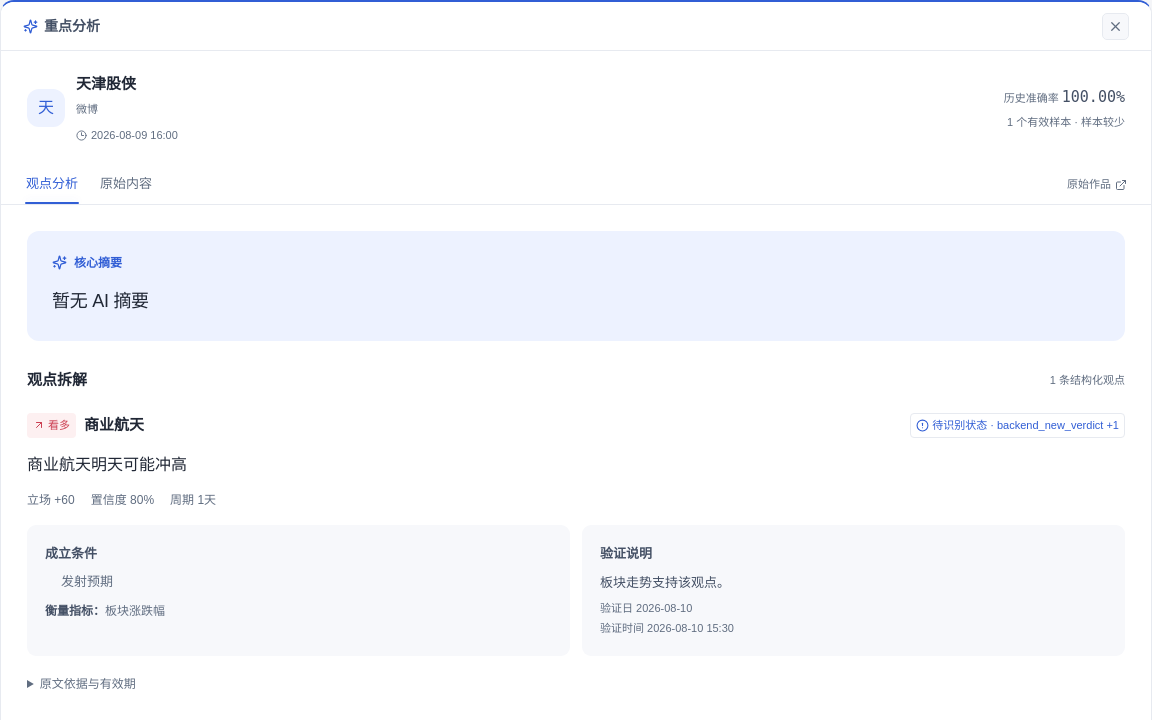
Test: CreatorWorkDetailPanel › keeps missing summaries honest and exposes unknown verification details
Expected: the text "暂无 AI 摘要" is shown, [52,290,149,310]
Click the button "原始内容" at (126,184), box [99,166,153,204]
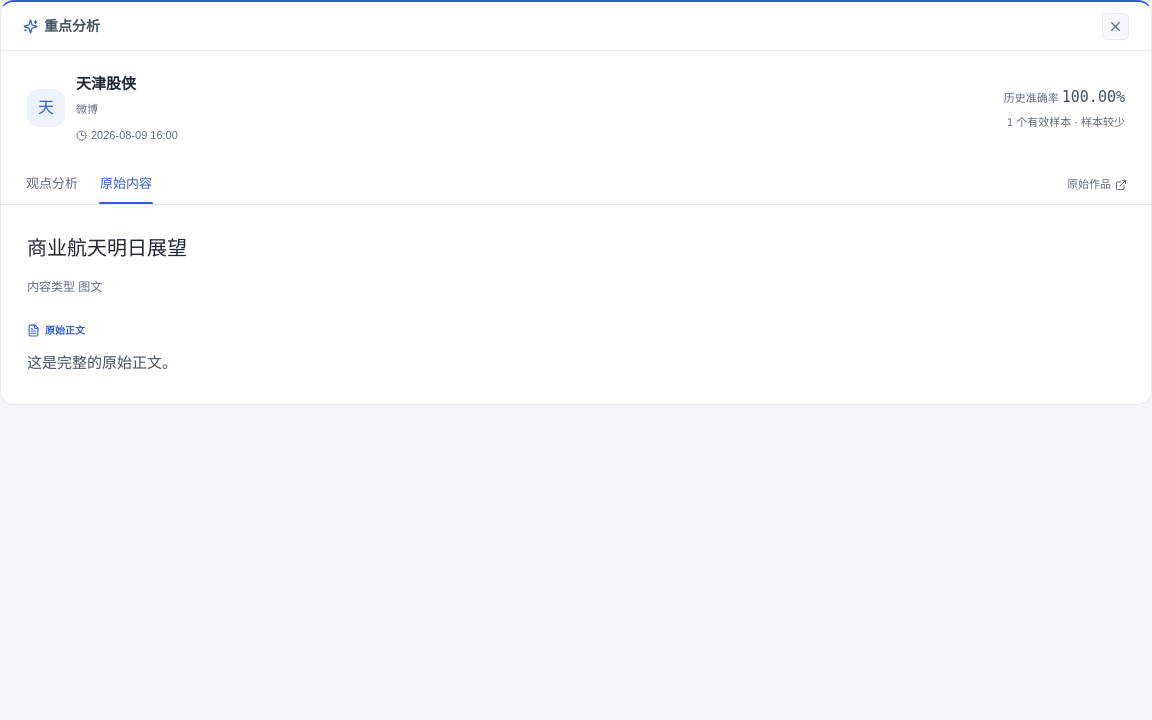
Expected: the text "内容类型 图文" is shown, [27,280,102,294]
Expected: the heading "商业航天明日展望" is shown, [27,236,187,258]
